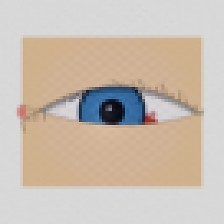hemorrhage_spot: (74, 86, 173, 165)
